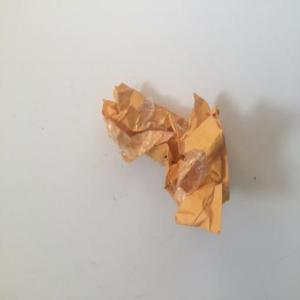Trash: (101, 83, 231, 236)
